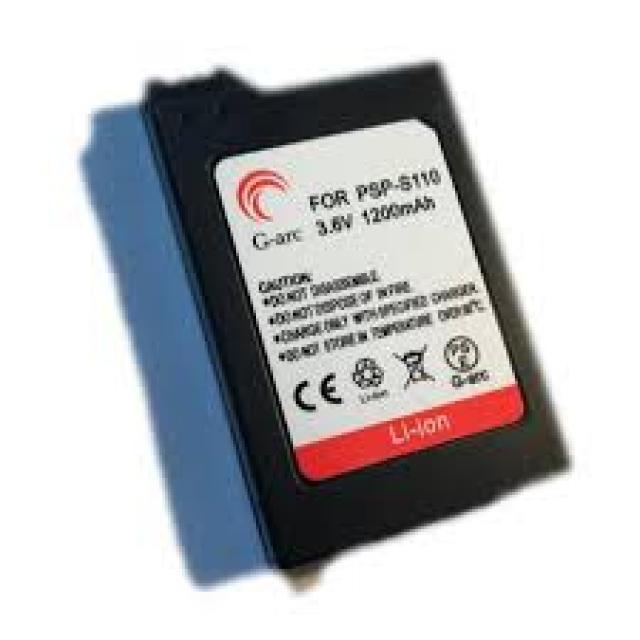battery: (138, 70, 568, 592)
